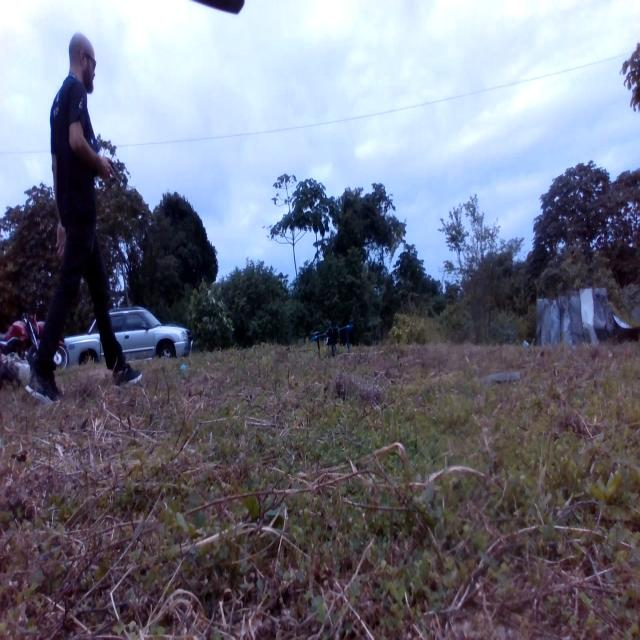-uav-: (310, 304, 357, 367)
